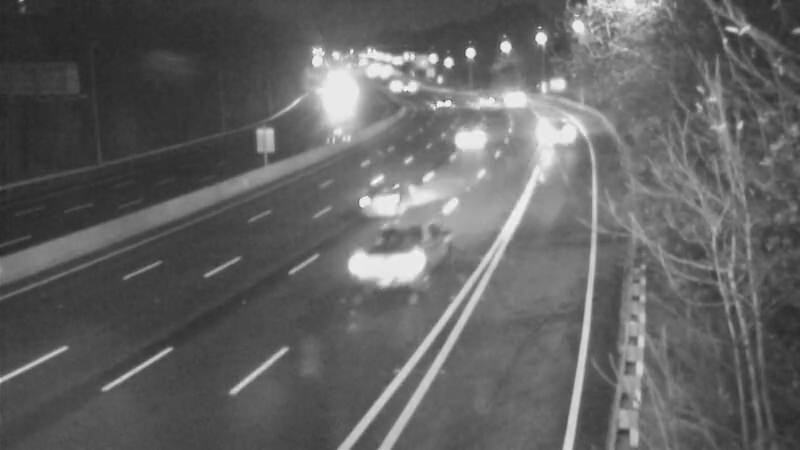vehicle: (336, 164, 416, 244), (334, 222, 414, 302), (460, 73, 510, 123), (485, 68, 535, 118), (418, 77, 468, 127), (528, 115, 578, 165), (450, 110, 500, 160)
